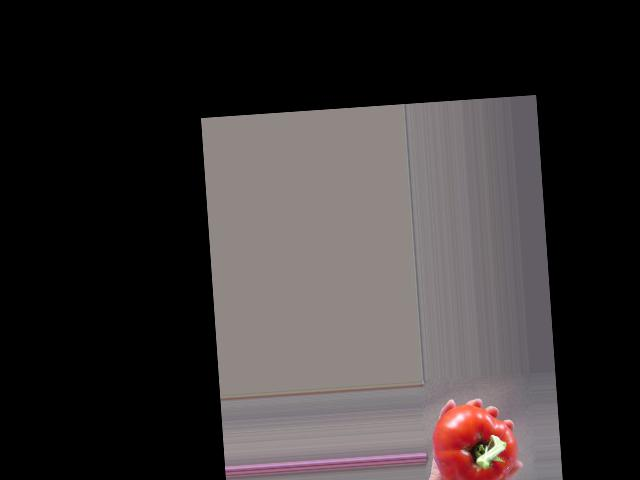tomato: (429, 401, 520, 480)
